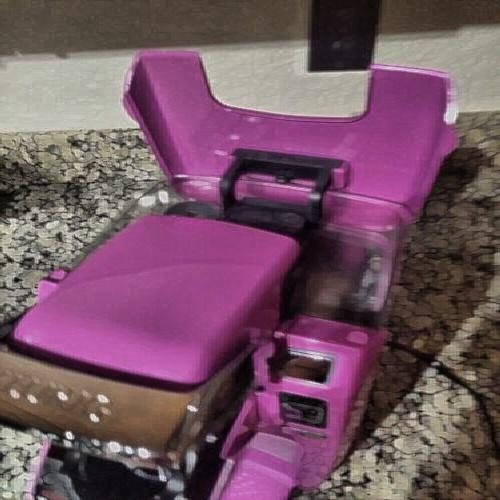coffee_maker: (64, 63, 421, 476)
